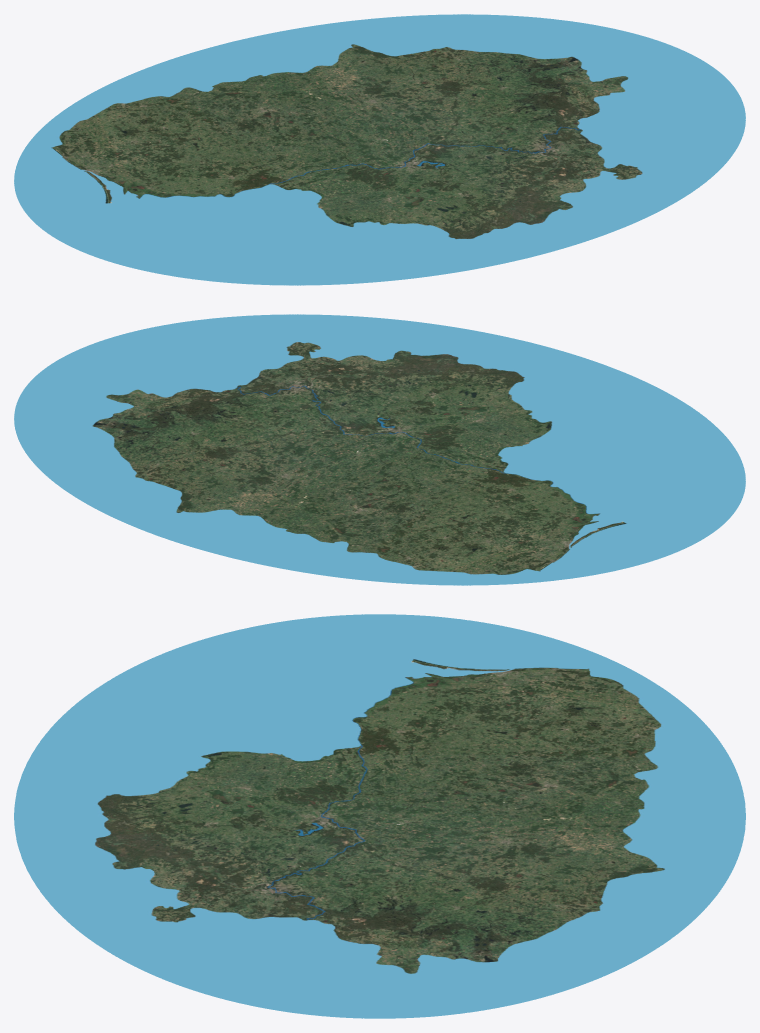
The model's file is LTU-previa-terrain.glb.
The picture shows the model from 3 angles, top to bottom: view 1: azimuth 30°, elevation 25°; view 2: azimuth 150°, elevation 25°; view 3: azimuth 270°, elevation 25°; orthographic projection. The views are drawn at different scales.
Parts seen in each view (by area): view 1: Lituânia; view 2: Lituânia; view 3: Lituânia.
Boxes of the visible parts, x1,y1,x2,y2 form: Lituânia: (14, 14, 745, 285); Lituânia: (14, 314, 745, 585); Lituânia: (14, 614, 745, 1018).
Bounding box in the file's own units: 2.25 × 0.00952 × 1.72.
1 material, 1 textured.
